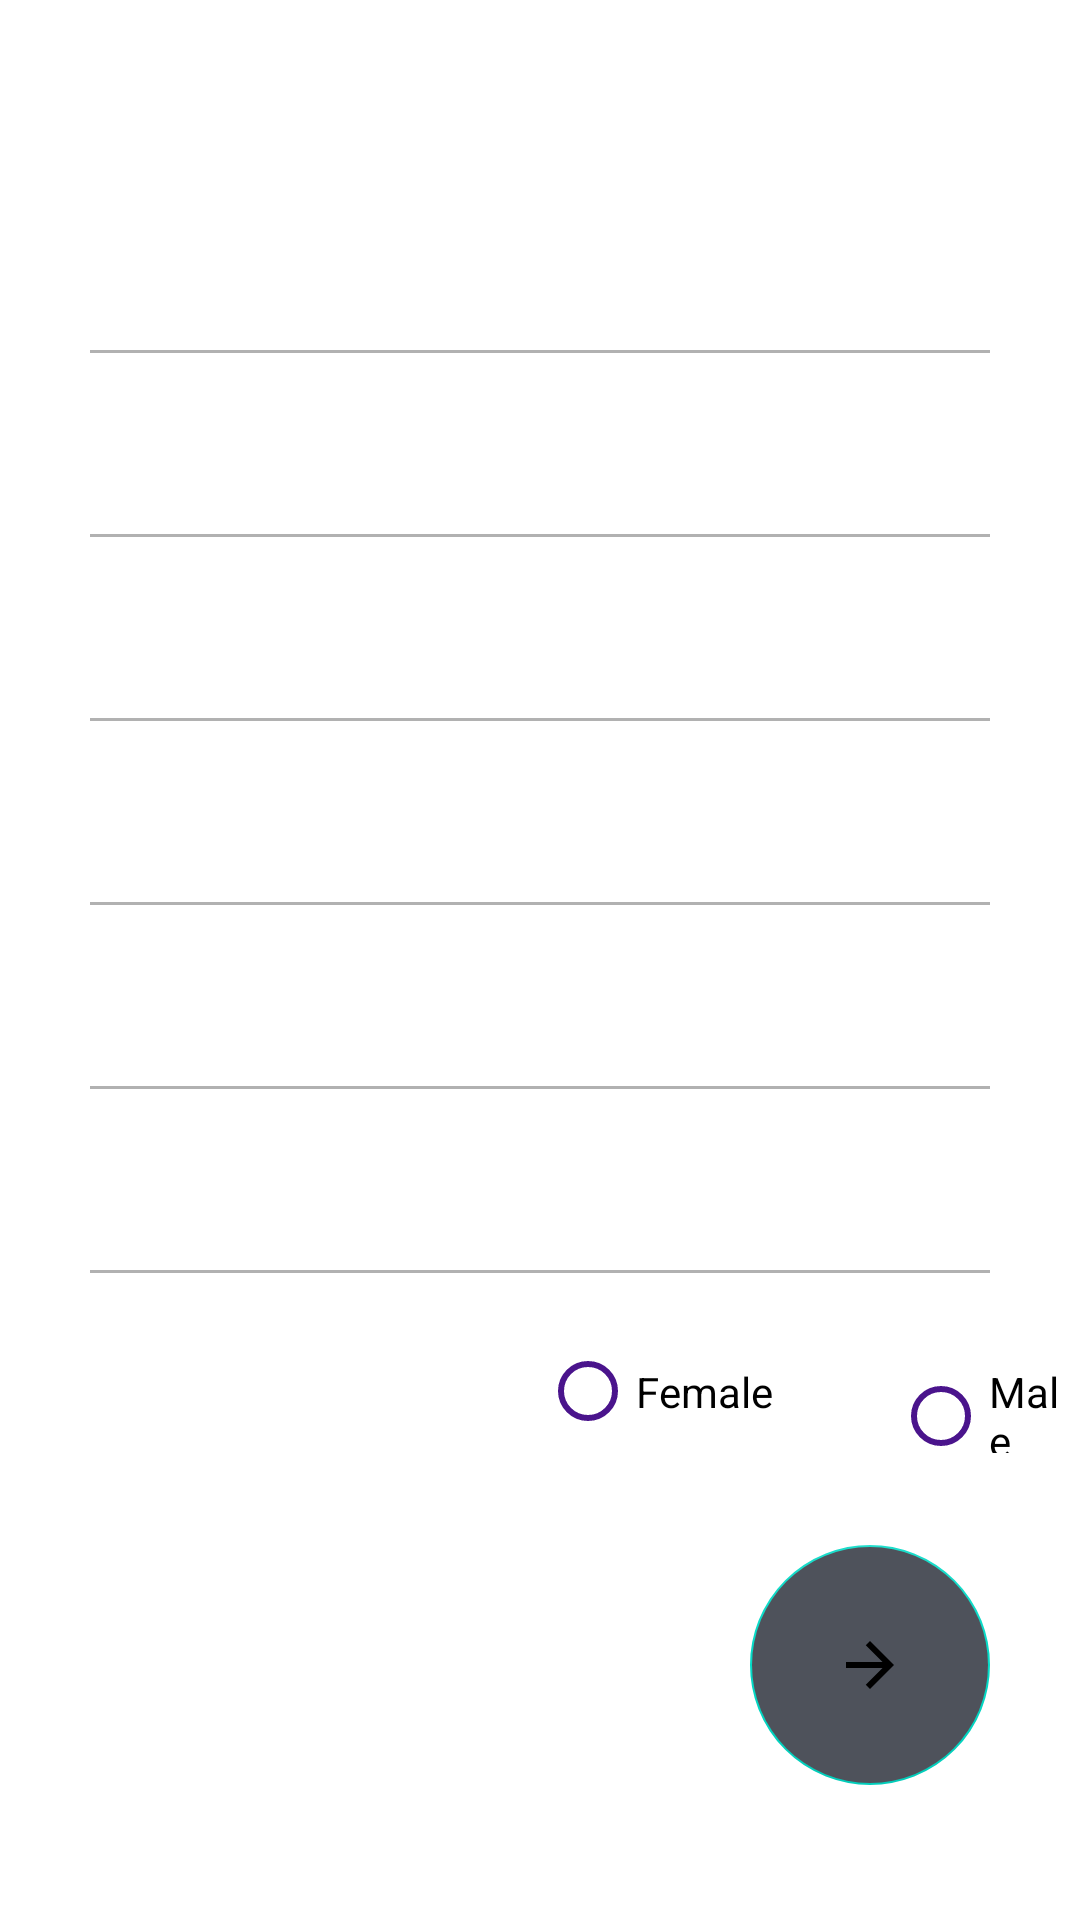

Named icons in this screenshot (1080*1920) and their centers, [x,y]:
arrow forward: [870,1665]
